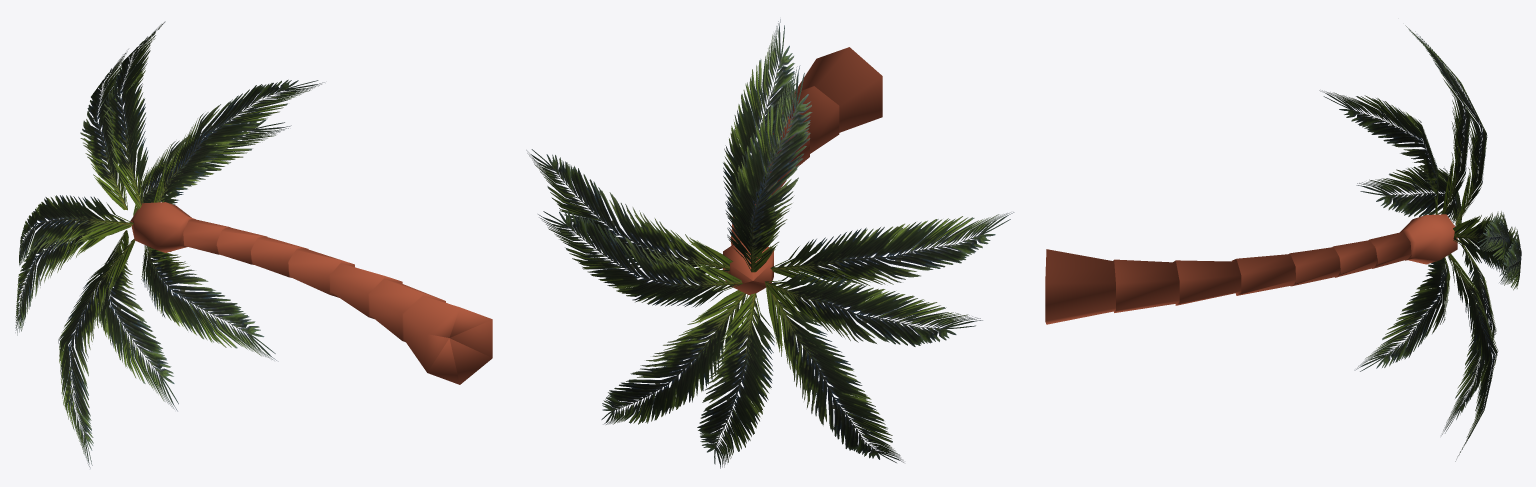
Rendered from Palm.003.fbx.
The picture shows the model from 3 angles, left to right: view 1: azimuth 30°, elevation 25°; view 2: azimuth 150°, elevation 25°; view 3: azimuth 270°, elevation 25°; orthographic projection. The views are drawn at different scales.
Parts seen in each view (by area): view 1: Palm.004; view 2: Palm.004; view 3: Palm.004.
Part boxes in pixels (<box>): Palm.004: <box>15,21,492,468</box>; Palm.004: <box>526,19,1014,468</box>; Palm.004: <box>1045,25,1521,461</box>.
Bounding box in the file's own units: 340 × 356 × 371.
1 material, 1 textured.
